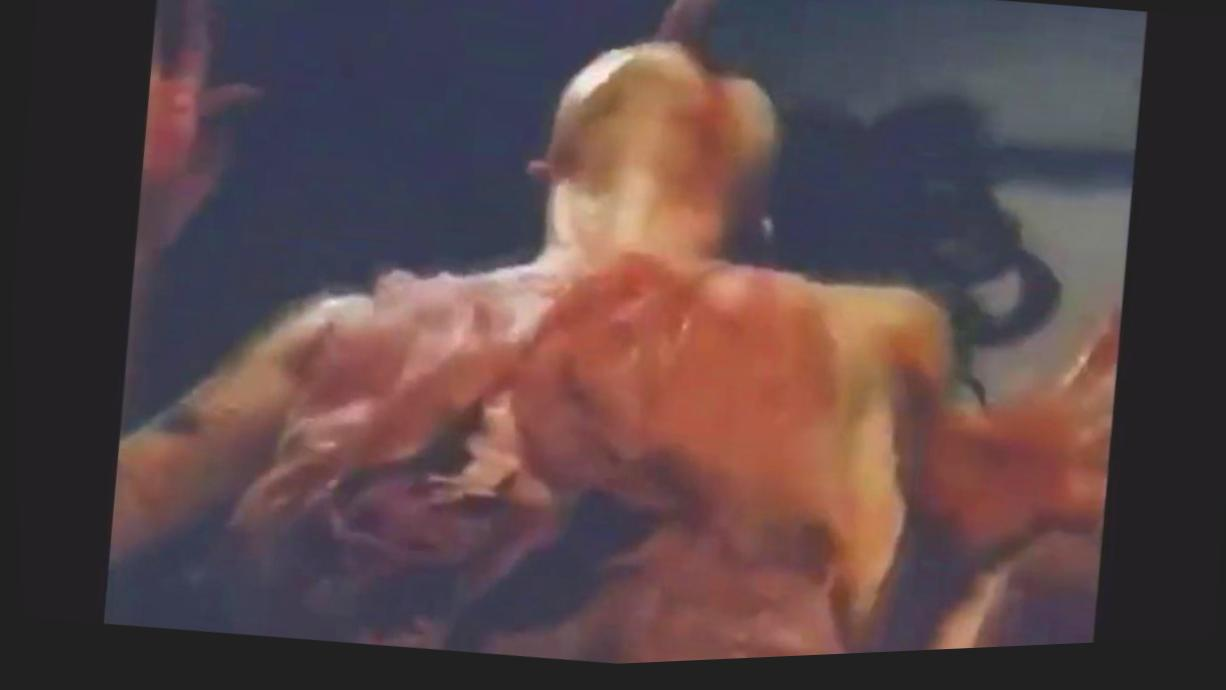Fire: (104, 0, 1113, 669), (136, 0, 242, 318)
